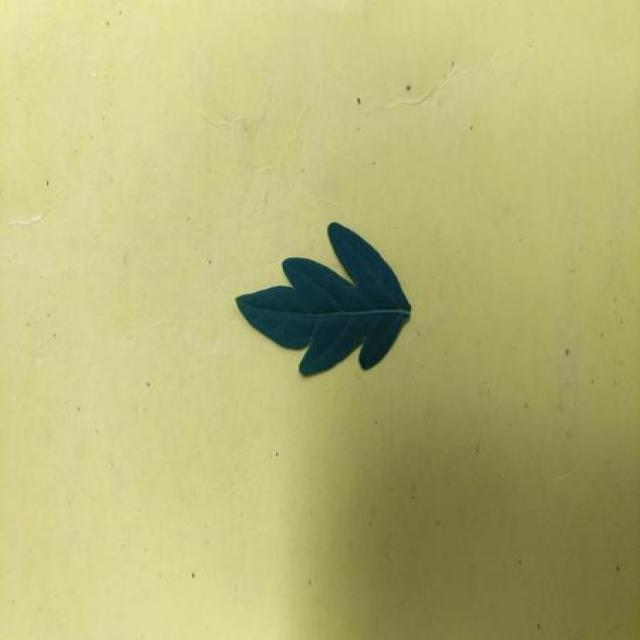balloon_Vine: (237, 222, 412, 376)
